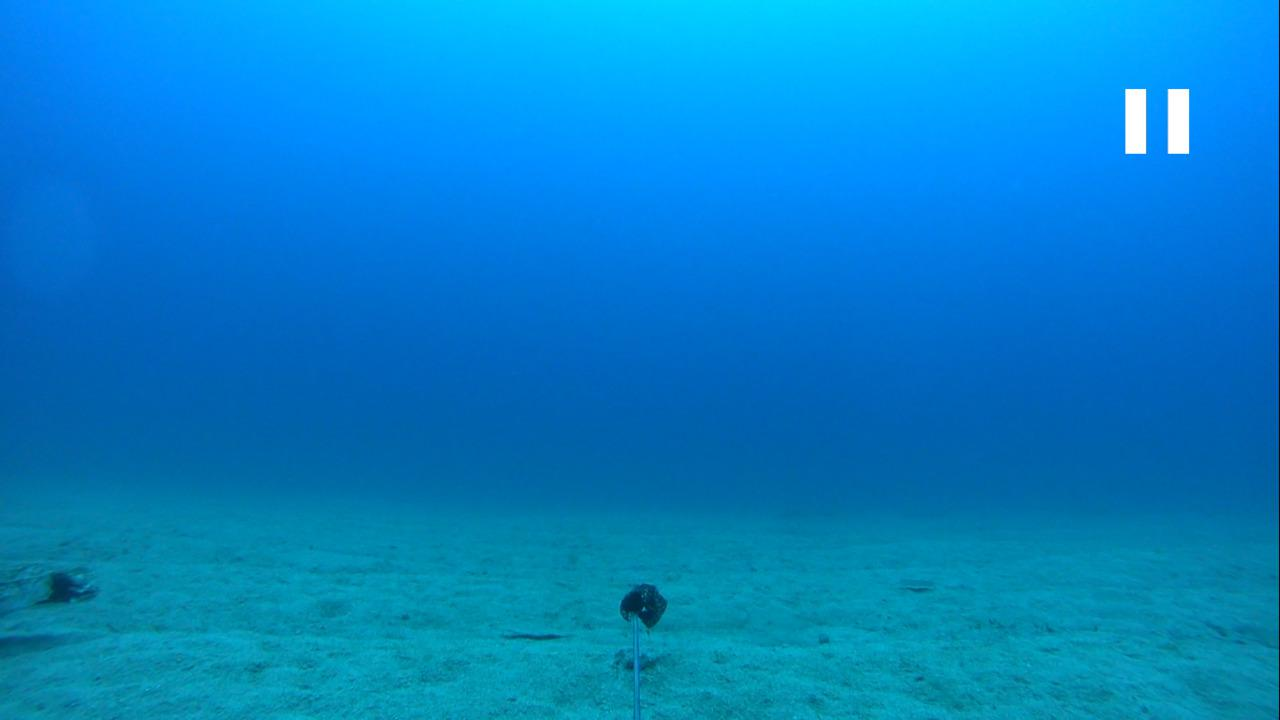bothus: (494, 616, 568, 642), (899, 571, 942, 595)
dactylopterus: (4, 545, 96, 623)
